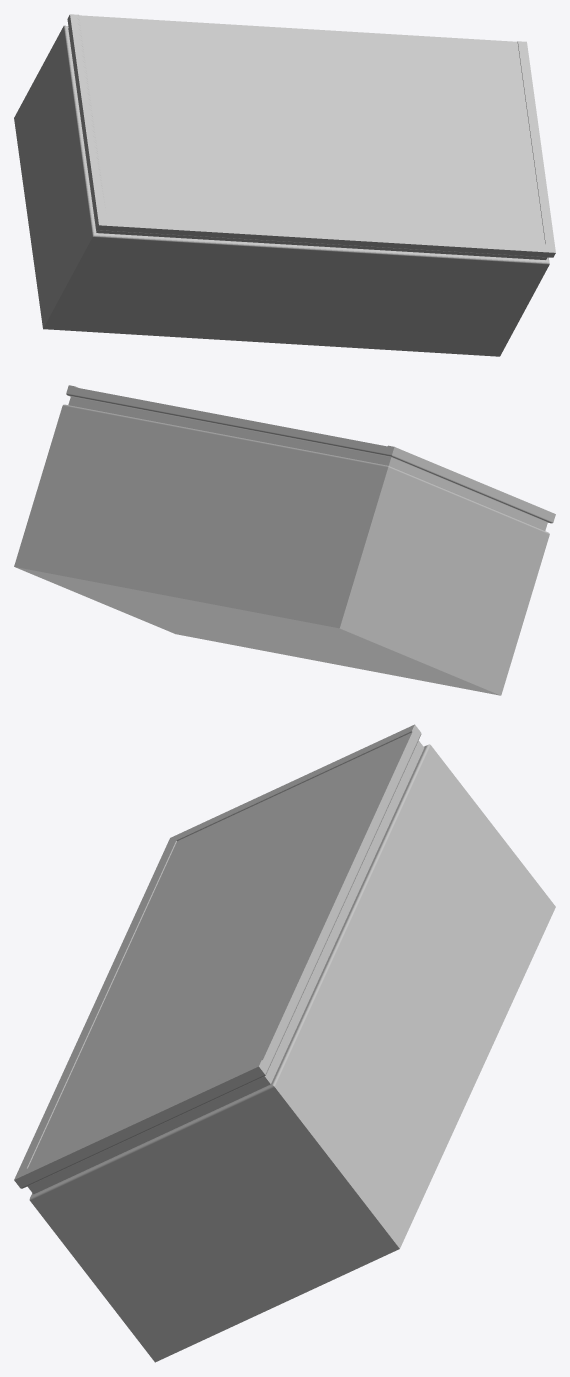
The model's file is TableWorkspace (1).glb.
The picture shows the model from 3 angles, top to bottom: view 1: azimuth 30°, elevation 25°; view 2: azimuth 150°, elevation 25°; view 3: azimuth 270°, elevation 25°; orthographic projection. The views are drawn at different scales.
Parts seen in each view (by area): view 1: node_id3; view 2: node_id3; view 3: node_id3.
Part boxes in pixels (bbox=[...]): node_id3: bbox=[14, 14, 555, 356]; node_id3: bbox=[14, 385, 555, 695]; node_id3: bbox=[14, 724, 555, 1362].
Size of the model in its own units: 0.5698 by 0.4077 by 0.4582.
Materials: 1 (1 with a texture image).
